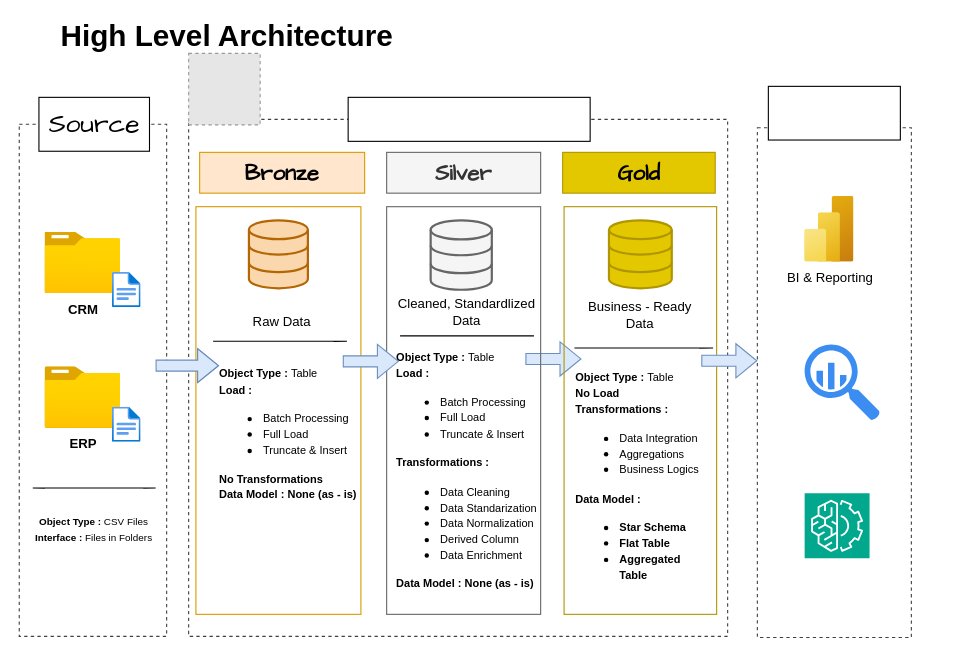
The diagram is 956 pixels wide and 657 high, and some of its shapes have lost their labels. Grey dashed boxes stand in for pictures. Here are the shapes that lost their labels. From the top down, the box of each, then its label:
(347, 96, 590, 141): Data Warehouses
(767, 85, 900, 140): Consume
(804, 344, 879, 420): Ad-Hoc SQL Queries
(804, 492, 870, 558): Machine Learning
